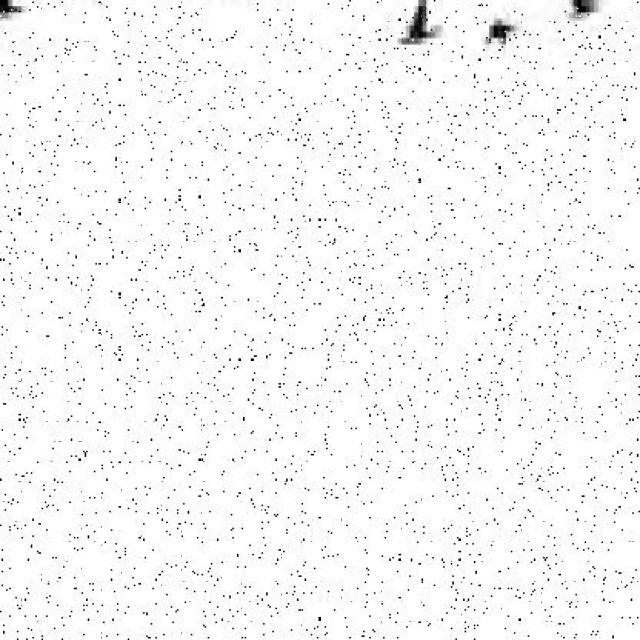bird: (456, 0, 544, 89), (390, 0, 436, 63), (559, 0, 606, 26)
